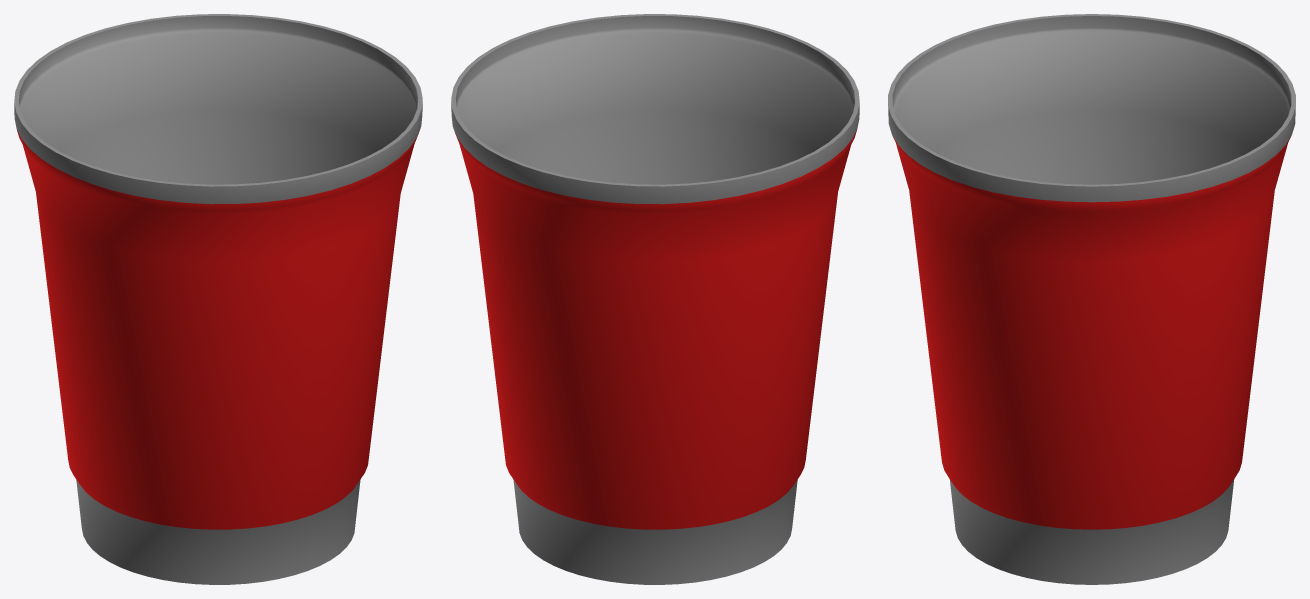
File: chai.FBX
The picture shows the model from 3 angles, left to right: view 1: azimuth 30°, elevation 25°; view 2: azimuth 150°, elevation 25°; view 3: azimuth 270°, elevation 25°; orthographic projection.
Visible parts, largest first — view 1: Cup; view 2: Cup; view 3: Cup.
Boxes of the visible parts, box(x1,y1,x2,y2) form: Cup: box(14, 14, 422, 584); Cup: box(451, 14, 859, 584); Cup: box(888, 14, 1295, 584).
Bounding box in the file's own units: 1.28 × 1.48 × 1.28.
